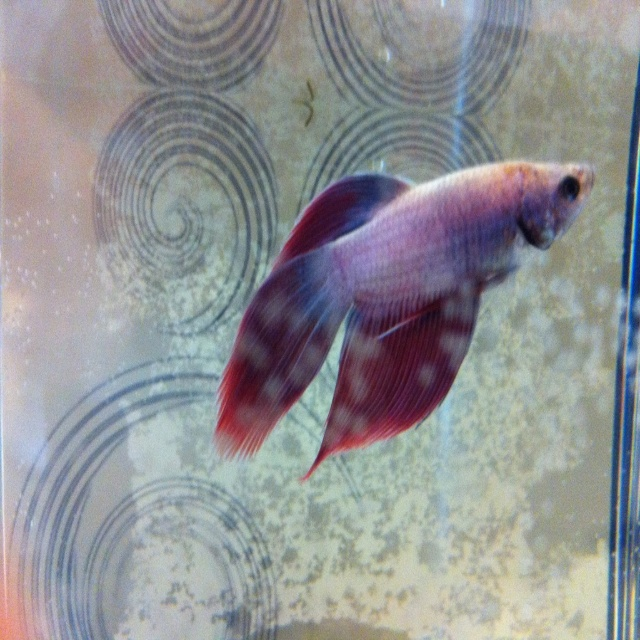Fish: (188, 143, 610, 498)
